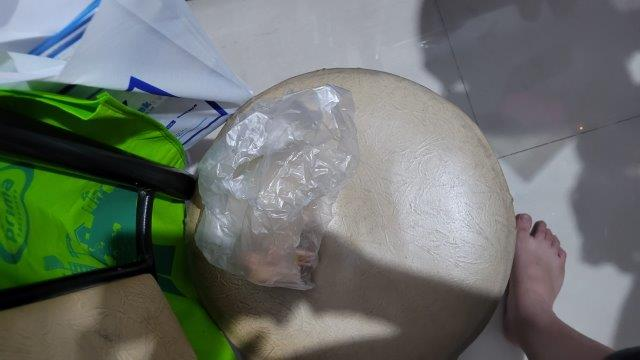plastik: (219, 84, 361, 289), (1, 4, 215, 127)
